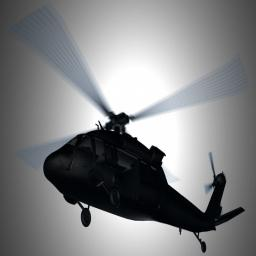helicopter: (34, 23, 247, 256)
